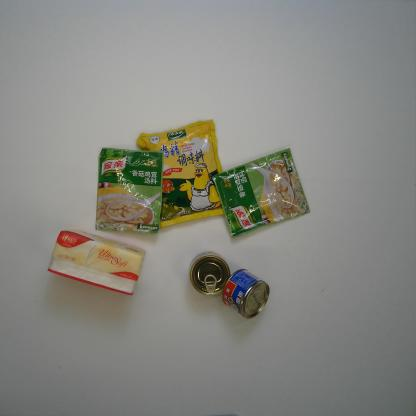Canned Food: (222, 268, 270, 320), (188, 250, 232, 297)
Seasoner: (136, 119, 225, 228), (211, 147, 311, 239), (94, 146, 164, 235)
Tissue: (46, 228, 146, 296)
